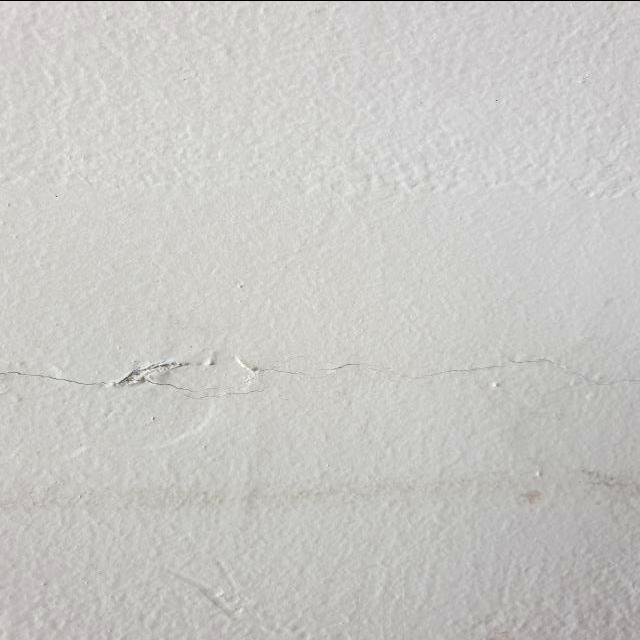SurfaceCrack: (0, 299, 639, 437)
